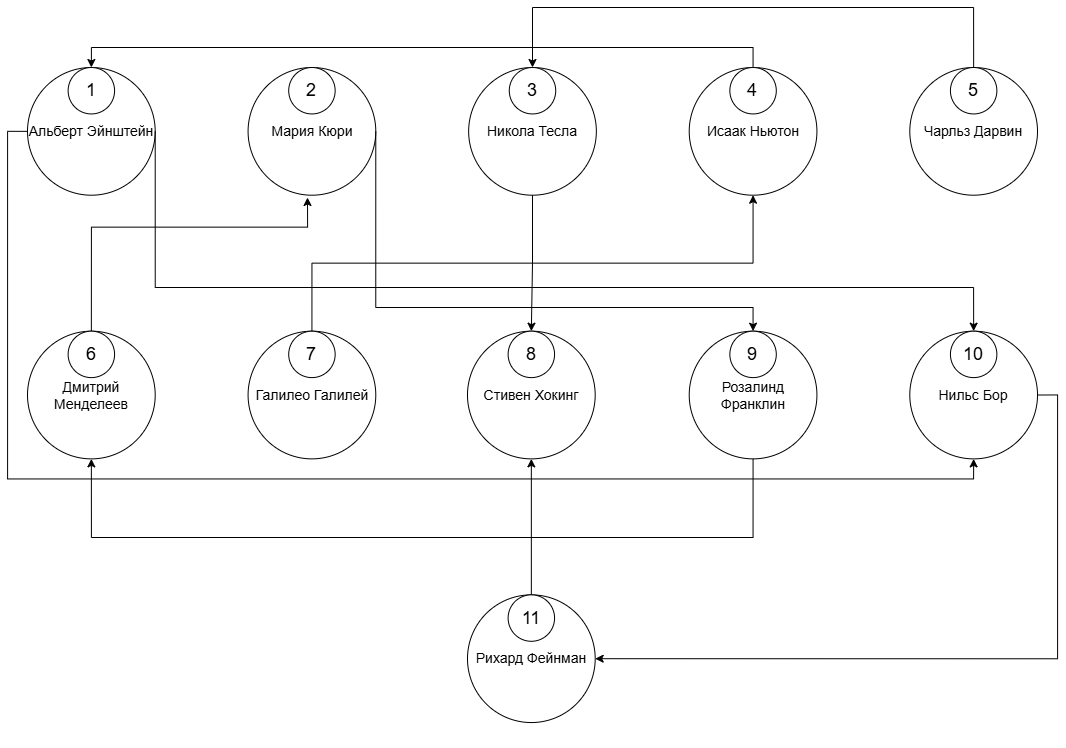

What the dashboard file says about the page in this screenshot:
{"tool":"powerbi","page":{"name":"Ученый - Ученый","canvas":[1280,720],"ordinal":0},"visuals":[{"type":"ForceGraph1449359463895","title":"Ученый - Ученый","fields":{"Source":["Scientist.First"],"Target":["Scientist.Second"],"SourceType":["Scientist.First image name"],"TargetType":["Scientist.Second image name"]},"box":[9.6,0,1270.7,720.4],"z":0}]}

Visuals, with their boxes on the page's 1280x720 design canvas (x1, y1, x2, y2). These are canvas units, not pixel positions in the 1066x748 screenshot, which may show the page scaled, cropped or inside an application window:
"Ученый - Ученый" ForceGraph1449359463895: (10, 0, 1280, 720)
